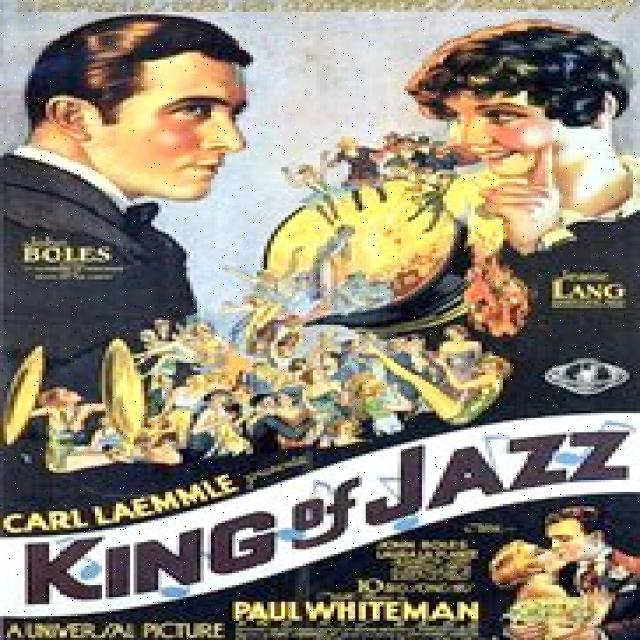movie-judul: (3, 434, 640, 611)
picture: (12, 15, 640, 396)
